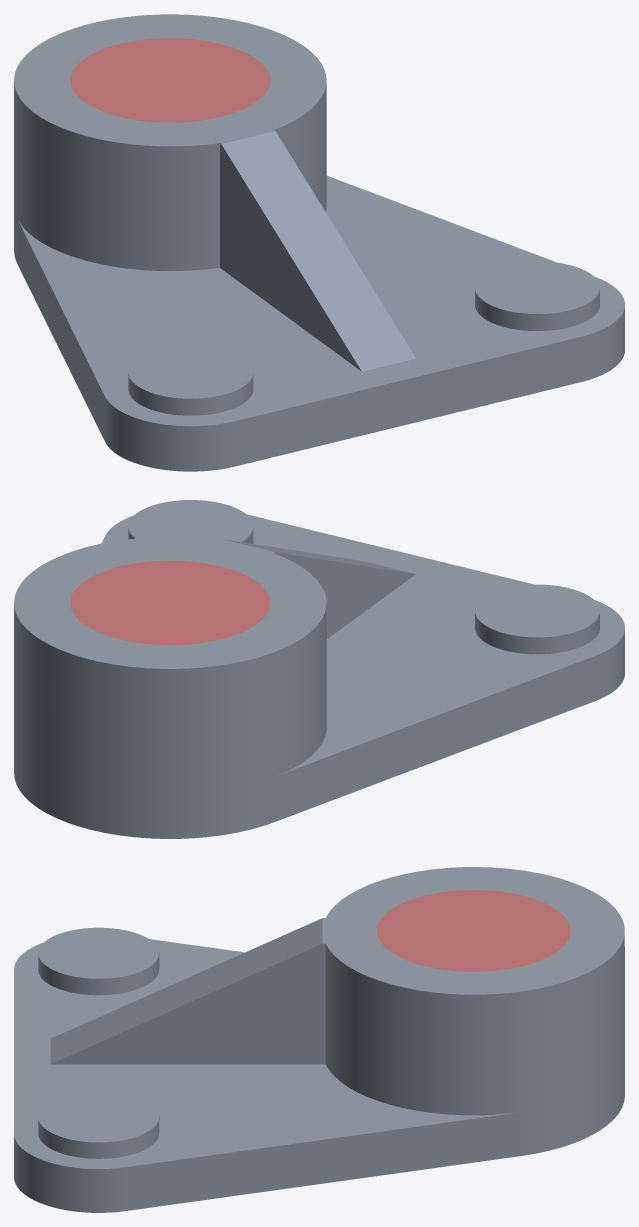
File: step_06.glb
The picture shows the model from 3 angles, top to bottom: view 1: azimuth 30°, elevation 25°; view 2: azimuth 150°, elevation 25°; view 3: azimuth 270°, elevation 25°; orthographic projection. The views are drawn at different scales.
Parts seen in each view (by area): view 1: part__boss bracket, removed__boss bracket; view 2: part__boss bracket, removed__boss bracket; view 3: part__boss bracket, removed__boss bracket.
Boxes of the visible parts, bbox=[...] form: part__boss bracket: bbox=[14, 14, 624, 471]; removed__boss bracket: bbox=[70, 38, 270, 122]; part__boss bracket: bbox=[14, 500, 624, 838]; removed__boss bracket: bbox=[70, 560, 270, 645]; part__boss bracket: bbox=[14, 867, 624, 1212]; removed__boss bracket: bbox=[377, 890, 570, 971].
Size of the model in its own units: 91.99 by 30 by 101.
